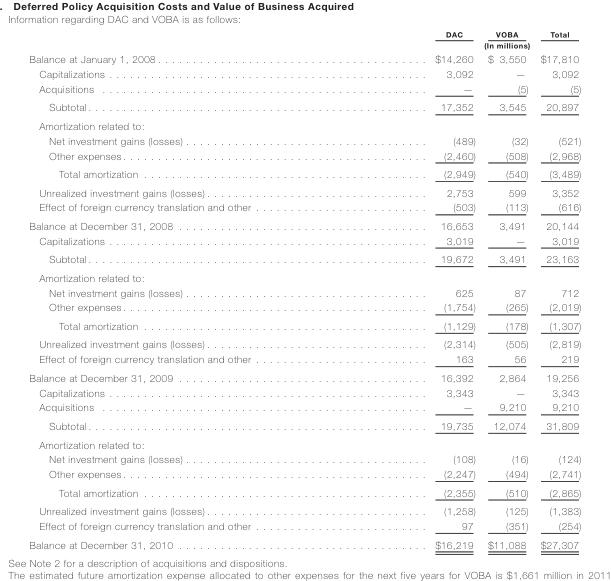table: (28, 29, 580, 549)
table column: (28, 29, 342, 549), (342, 29, 481, 549), (481, 29, 533, 549), (533, 29, 580, 549)
table column header: (28, 29, 580, 51)
table projected row header: (28, 434, 580, 451), (28, 116, 580, 132), (28, 268, 580, 284)
table row: (28, 97, 580, 116), (28, 249, 580, 268), (28, 482, 580, 501), (28, 164, 580, 182), (28, 316, 580, 334), (28, 416, 580, 434), (28, 147, 580, 164), (28, 182, 580, 199), (28, 199, 580, 216), (28, 232, 580, 249), (28, 299, 580, 316), (28, 334, 580, 351), (28, 351, 580, 368), (28, 399, 580, 416), (28, 434, 580, 451), (28, 501, 580, 518), (28, 81, 580, 97), (28, 116, 580, 132), (28, 216, 580, 232), (28, 268, 580, 284), (28, 368, 580, 384), (28, 466, 580, 482), (28, 518, 580, 534), (28, 51, 580, 66), (28, 66, 580, 81), (28, 132, 580, 147), (28, 284, 580, 299), (28, 384, 580, 399), (28, 451, 580, 466), (28, 534, 580, 549), (28, 39, 580, 51), (28, 29, 580, 39)
table spanning cell: (342, 39, 580, 51)
